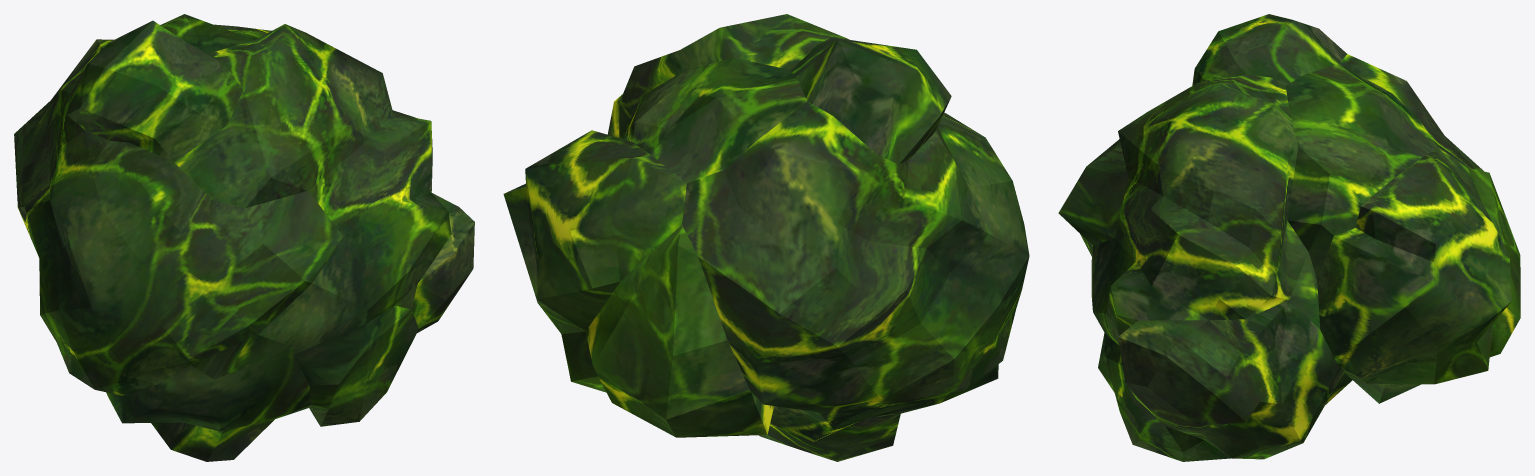
File: Effect_3112skill.fbx
3 renders of one model, left to right at view 1: azimuth 30°, elevation 25°; view 2: azimuth 150°, elevation 25°; view 3: azimuth 270°, elevation 25°, orthographic. The views are drawn at different scales.
Parts seen in each view (by area): view 1: maincity_st001; view 2: maincity_st001; view 3: maincity_st001.
Part boxes in pixels (box(x1,y1,x2,y2)): maincity_st001: box(14, 14, 474, 461); maincity_st001: box(503, 14, 1029, 461); maincity_st001: box(1058, 14, 1520, 461).
Size of the model in its own units: 1.27 by 1.29 by 1.33.
Materials: 1 (1 with a texture image).
